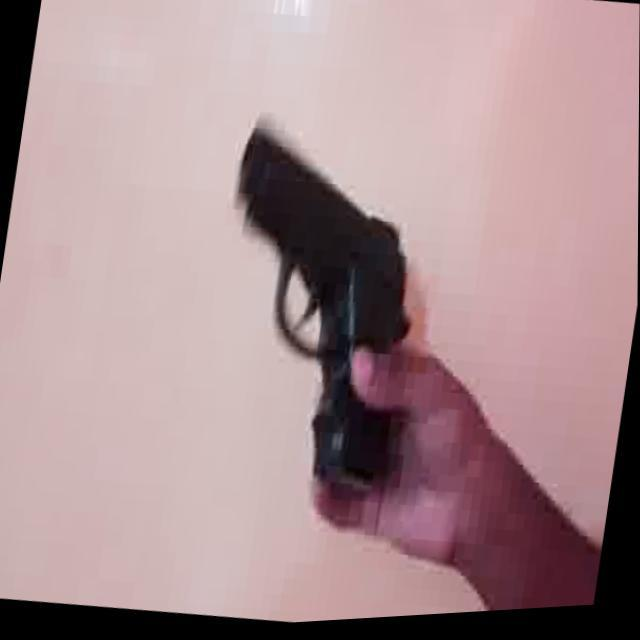weapon: (175, 101, 640, 632)
